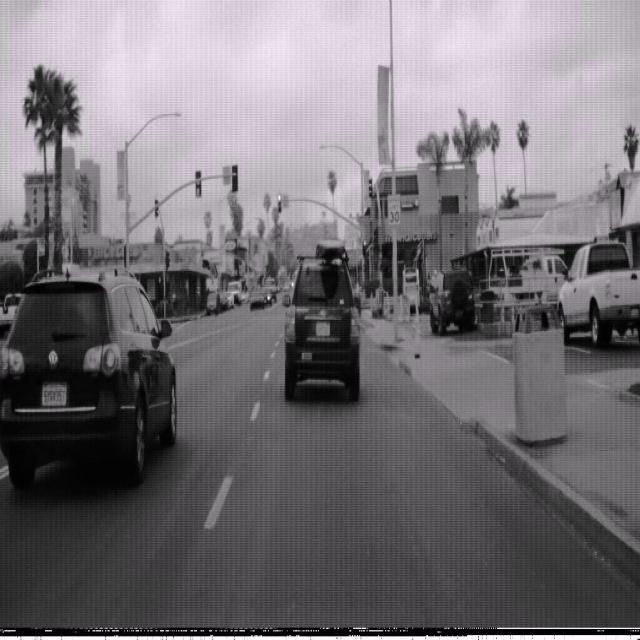speedLimit30: (387, 192, 401, 225)
